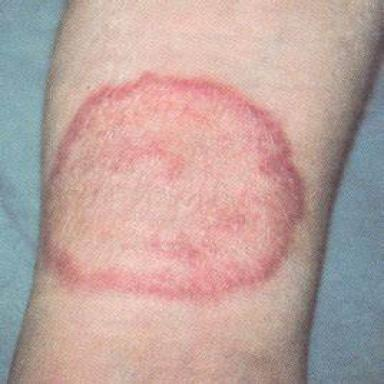Tinea-Corporis: (46, 75, 302, 296)
